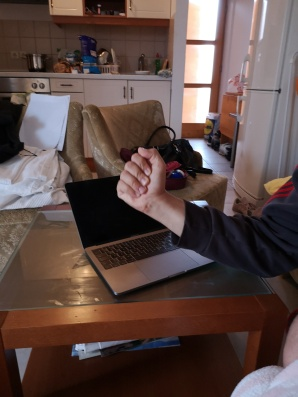A: (114, 141, 175, 218)
